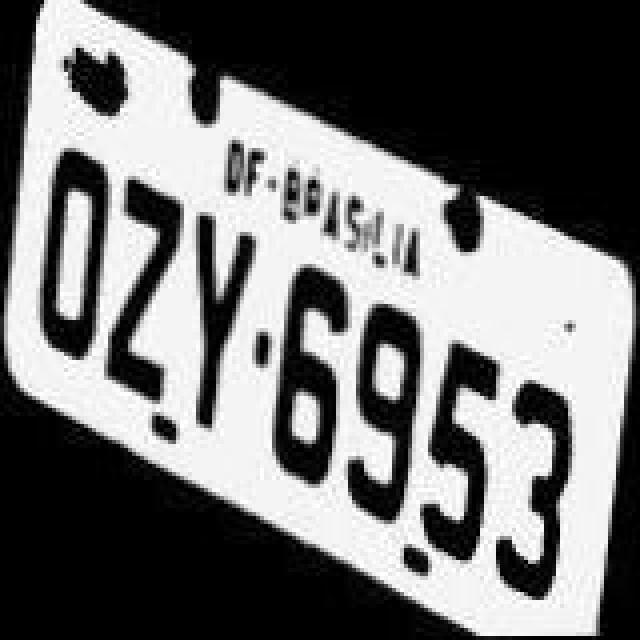3: (496, 366, 572, 602)
5: (422, 328, 502, 572)
6: (272, 256, 348, 500)
9: (346, 286, 418, 534)
O: (38, 144, 118, 384)
Y: (196, 206, 264, 454)
Z: (110, 172, 182, 420)
